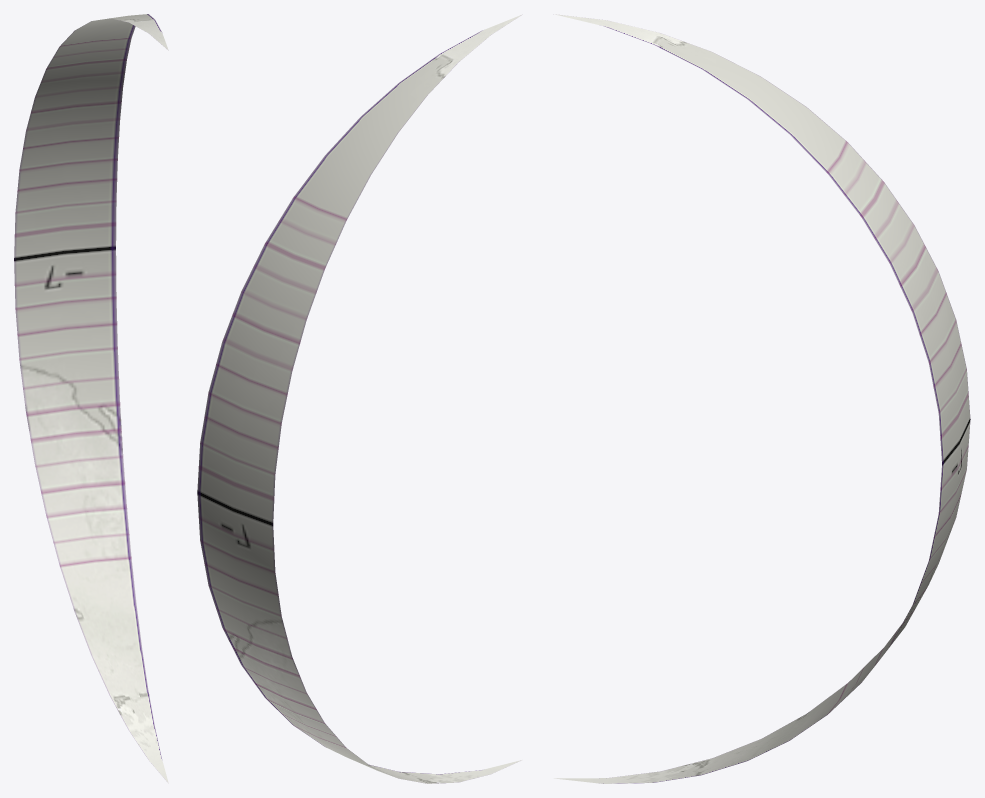
Rendered from GMTM7.obj.
3 renders of one model, left to right at view 1: azimuth 30°, elevation 25°; view 2: azimuth 150°, elevation 25°; view 3: azimuth 270°, elevation 25°, orthographic. The views are drawn at different scales.
Visible parts, largest first — view 1: GMTM07; view 2: GMTM07; view 3: GMTM07.
Boxes of the visible parts, x1,y1,x2,y2 form: GMTM07: (14,14,168,783); GMTM07: (197,14,522,783); GMTM07: (553,14,970,783).
Bounding box in the file's own units: 97.93 × 512 × 254.
1 material, 1 textured.
